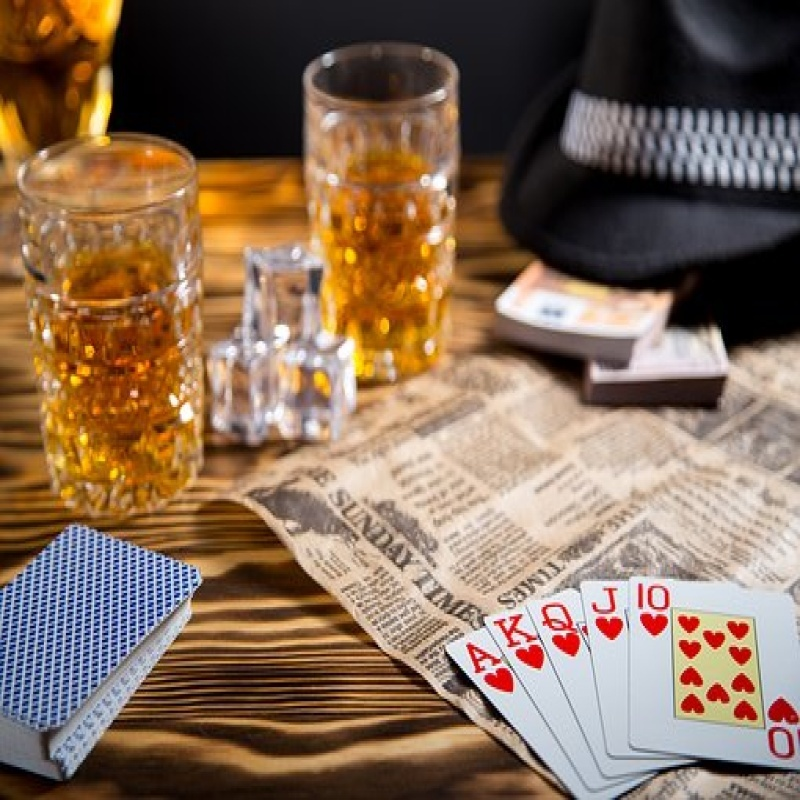whiskey: (31, 131, 202, 511), (315, 35, 466, 372)
